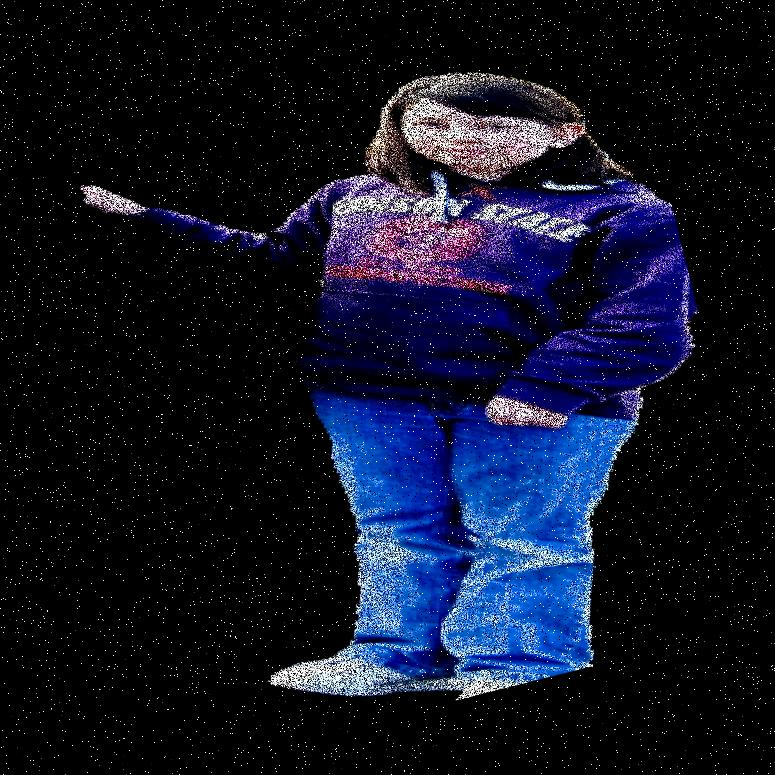Pessoa: (436, 0, 593, 774)
